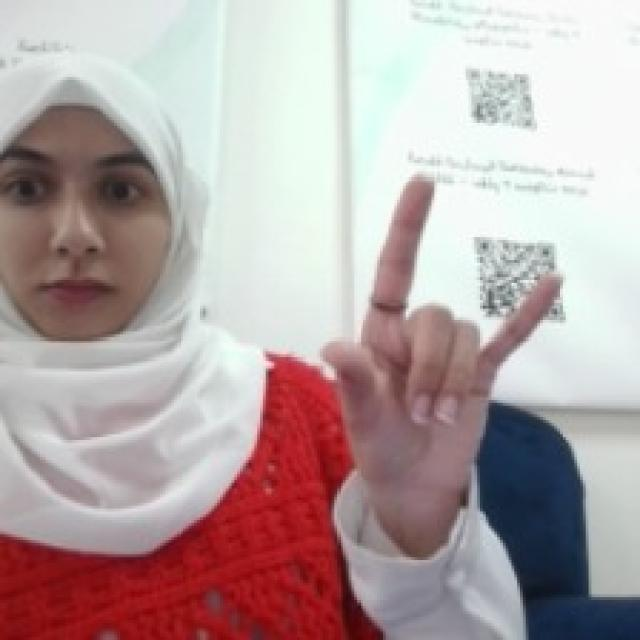love: (308, 160, 568, 491)
